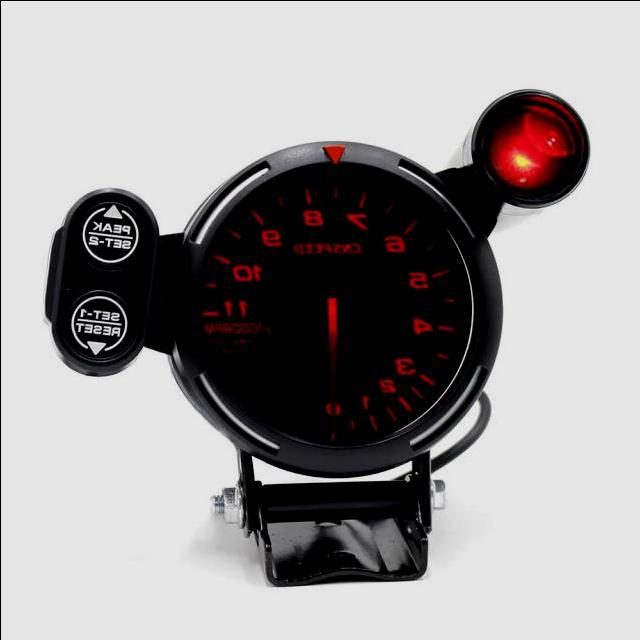Needle_Tip: (305, 395, 356, 447)
Needle_base: (306, 284, 357, 335)
max_value: (203, 292, 259, 325)
min_value: (314, 392, 353, 431)
